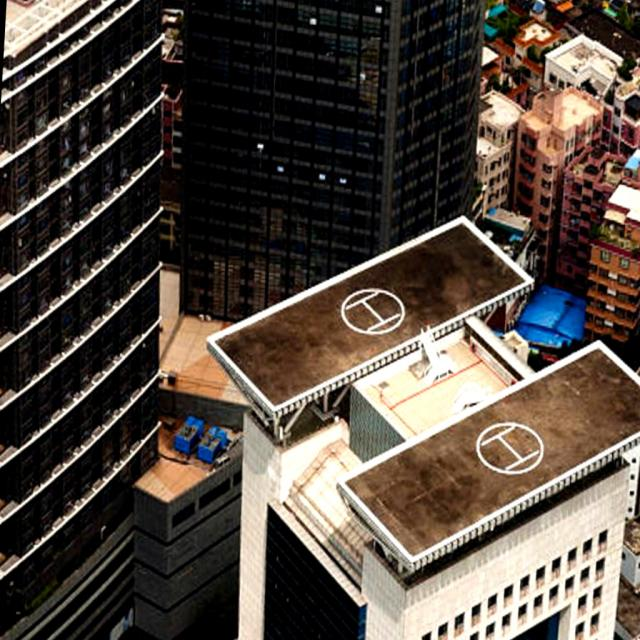helipad: (472, 417, 546, 478), (337, 281, 407, 338)
